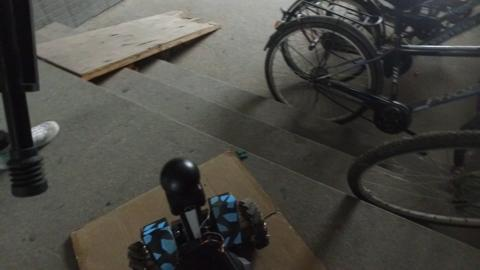bike: (264, 1, 478, 144)
chariot: (119, 155, 277, 269)
